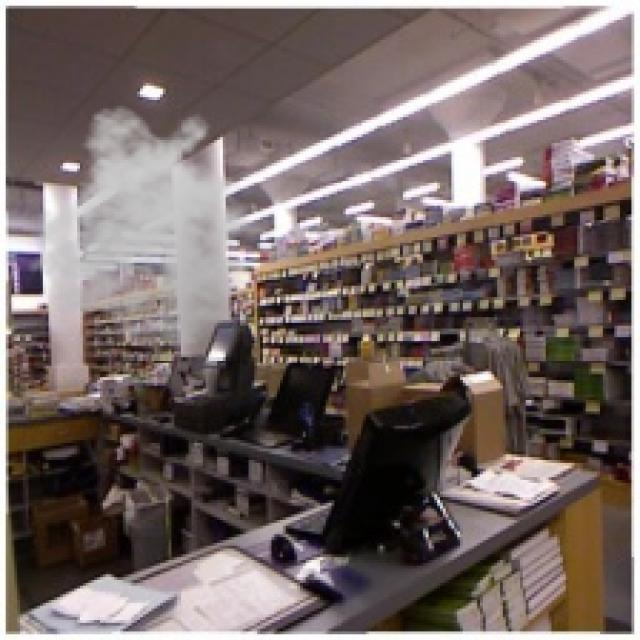smoke: (26, 103, 280, 351)
